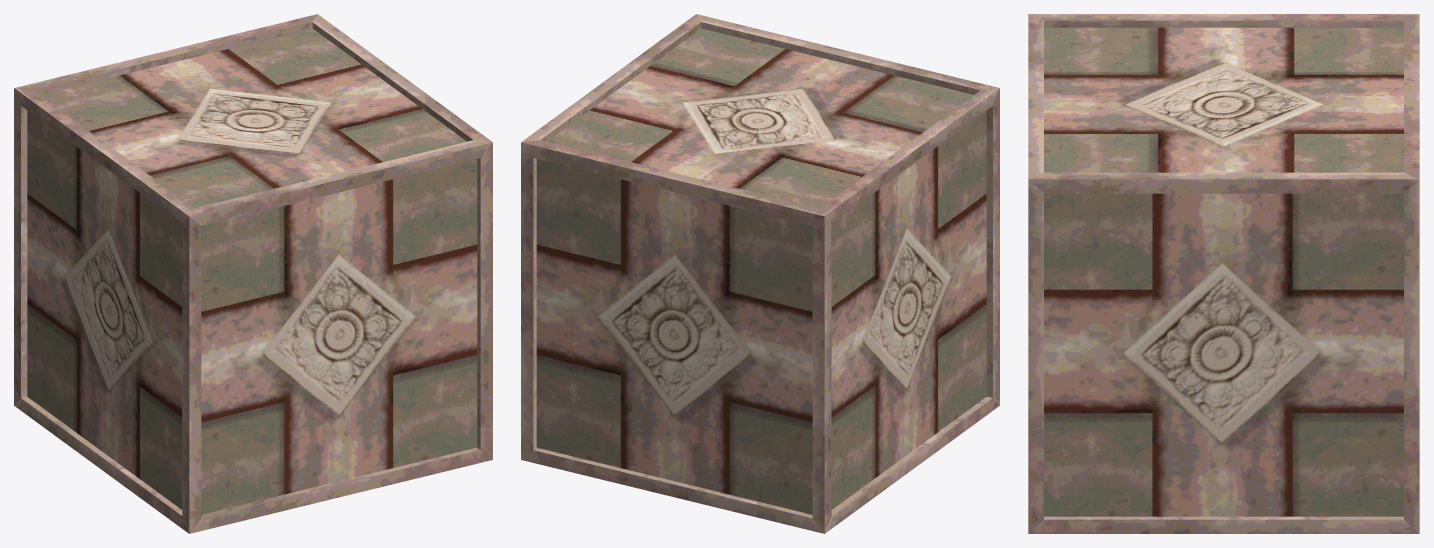
The model's file is PuzzleBox2.fbx.
3 renders of one model, left to right at view 1: azimuth 30°, elevation 25°; view 2: azimuth 150°, elevation 25°; view 3: azimuth 270°, elevation 25°, orthographic. The views are drawn at different scales.
Parts seen in each view (by area): view 1: Box004; view 2: Box004; view 3: Box004.
Part boxes in pixels (box(x1,y1,x2,y2)): Box004: box(14, 14, 492, 533); Box004: box(521, 14, 999, 533); Box004: box(1028, 14, 1419, 533).
Bounding box in the file's own units: 250 × 250 × 250.
